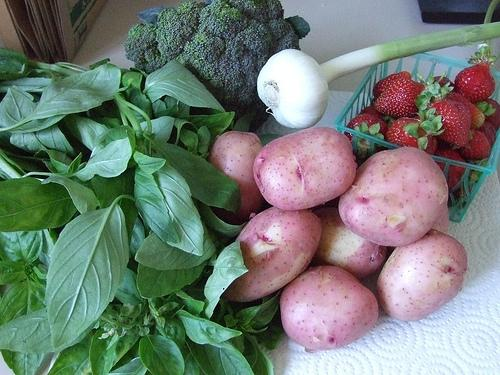broccoli: (124, 0, 310, 133)
green onion: (256, 22, 498, 130)
potato: (338, 147, 448, 246), (220, 206, 322, 302), (253, 126, 357, 210), (280, 265, 378, 351), (378, 228, 467, 321), (308, 207, 387, 280), (208, 130, 266, 224), (432, 205, 450, 235)
strawberry: (416, 80, 471, 148), (344, 114, 388, 172), (454, 45, 496, 103), (385, 118, 434, 150), (444, 92, 485, 130), (432, 148, 466, 191), (448, 130, 491, 160), (474, 99, 500, 133), (474, 118, 496, 146), (432, 76, 457, 93), (425, 136, 438, 154)
